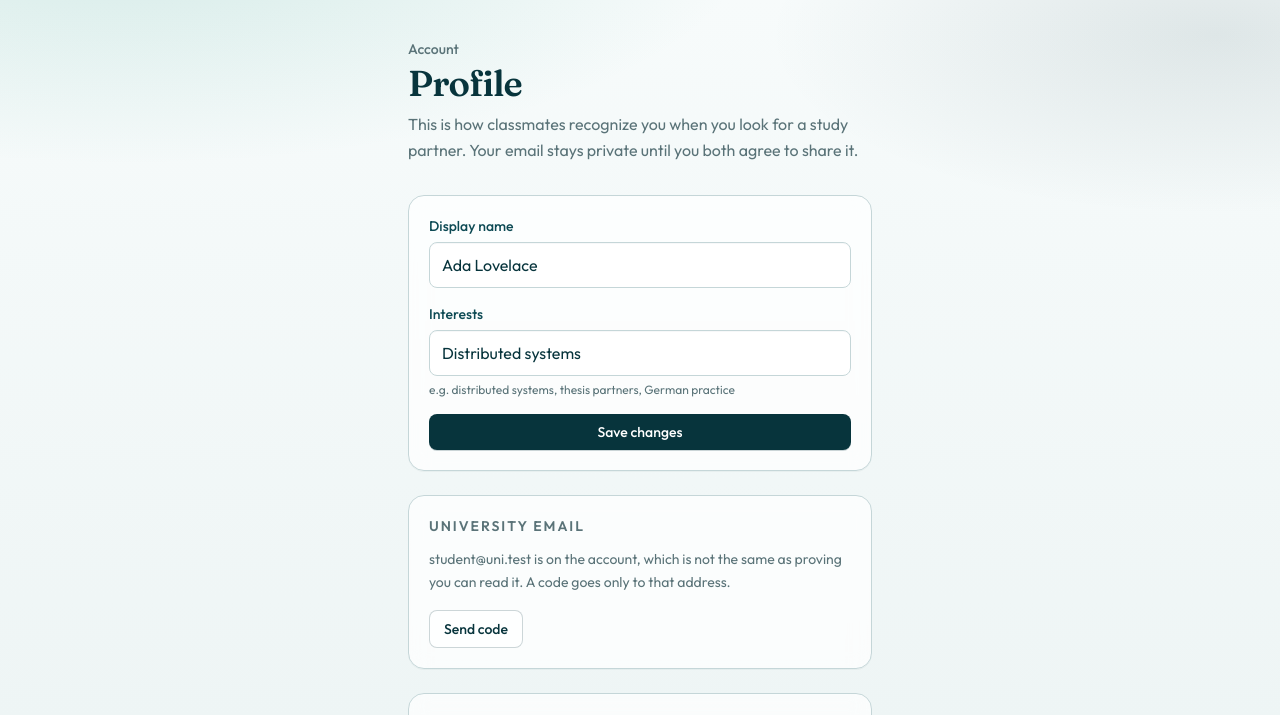
Test: profile page privacy controls › sends a university verification code and marks the address verified
This screenshot has width=1280, height=715.
Click the button "Send code". click: [476, 628]
box: [429, 610, 523, 648]
(page scrolled)
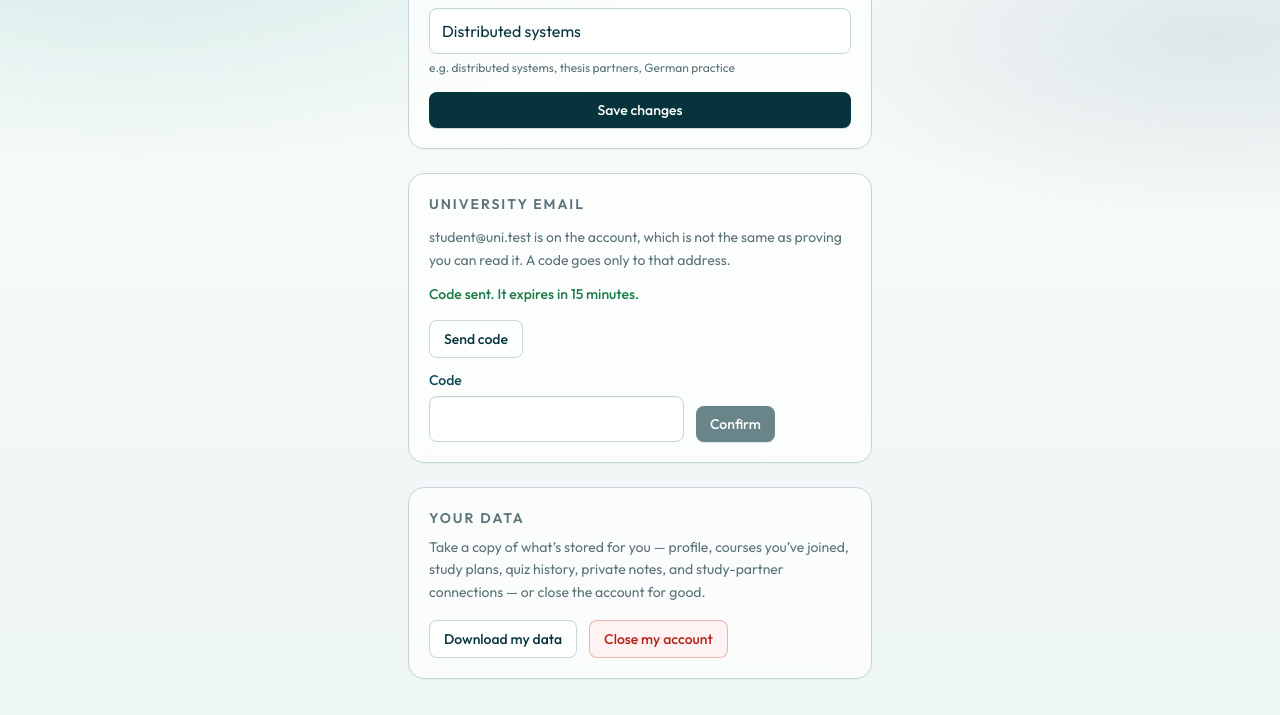
Now the text "Code sent. It expires in 15 minutes." is shown, box [429, 284, 639, 302]
Type "042013" into the field labelled "Code". click: [556, 418]
box: [429, 396, 684, 442]
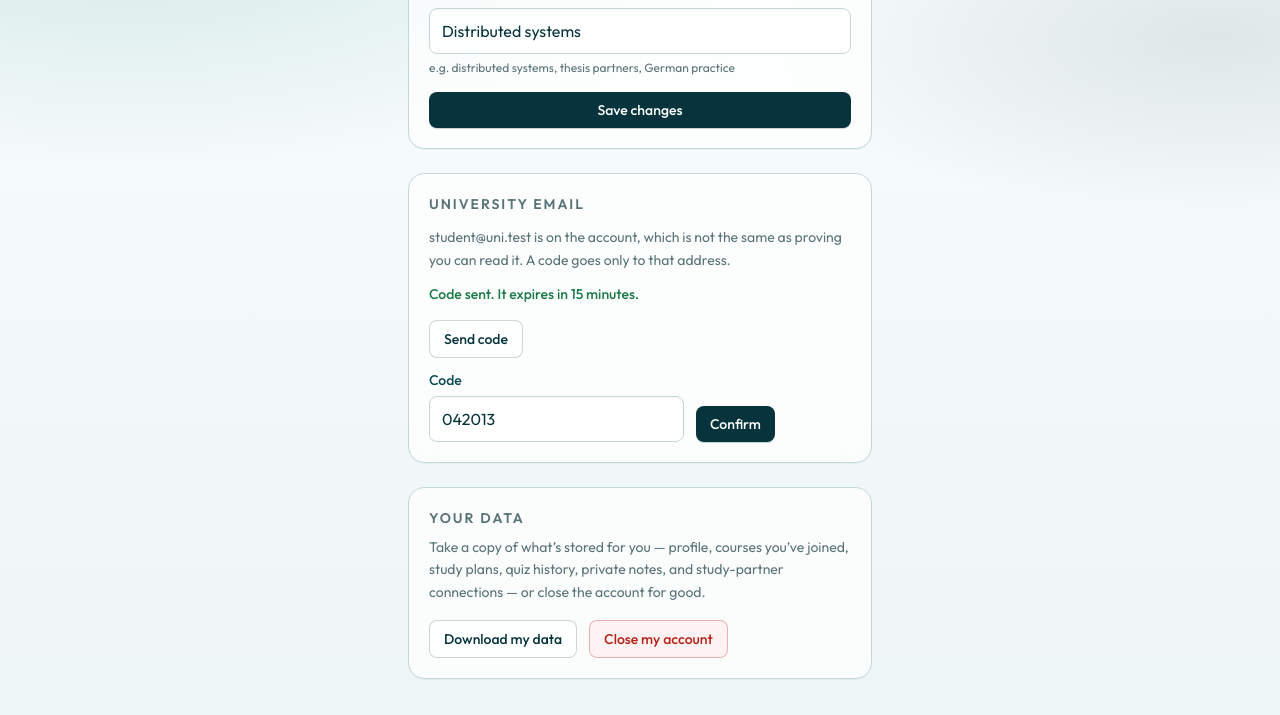
Click the button "Confirm". click: [735, 424]
box: [696, 406, 775, 442]
(page scrolled)
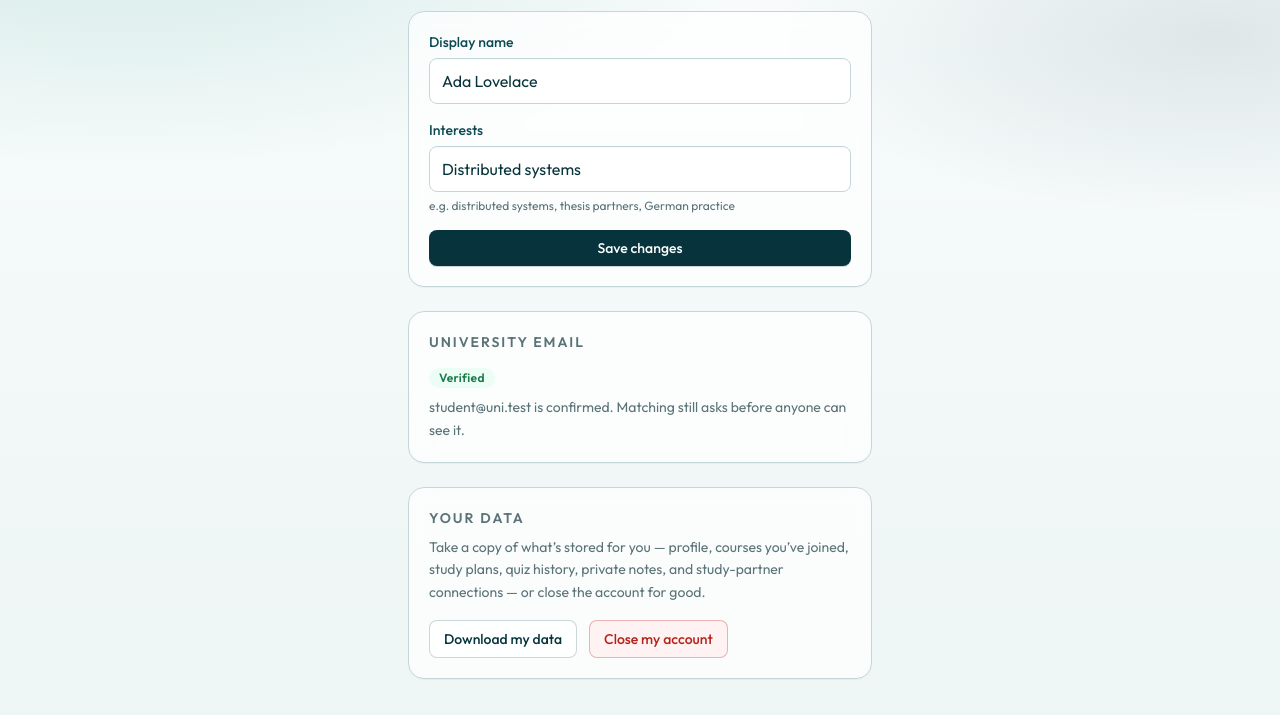
Now the text "Verified" is shown, box [429, 368, 495, 388]
Now the button "Send code" is gone
